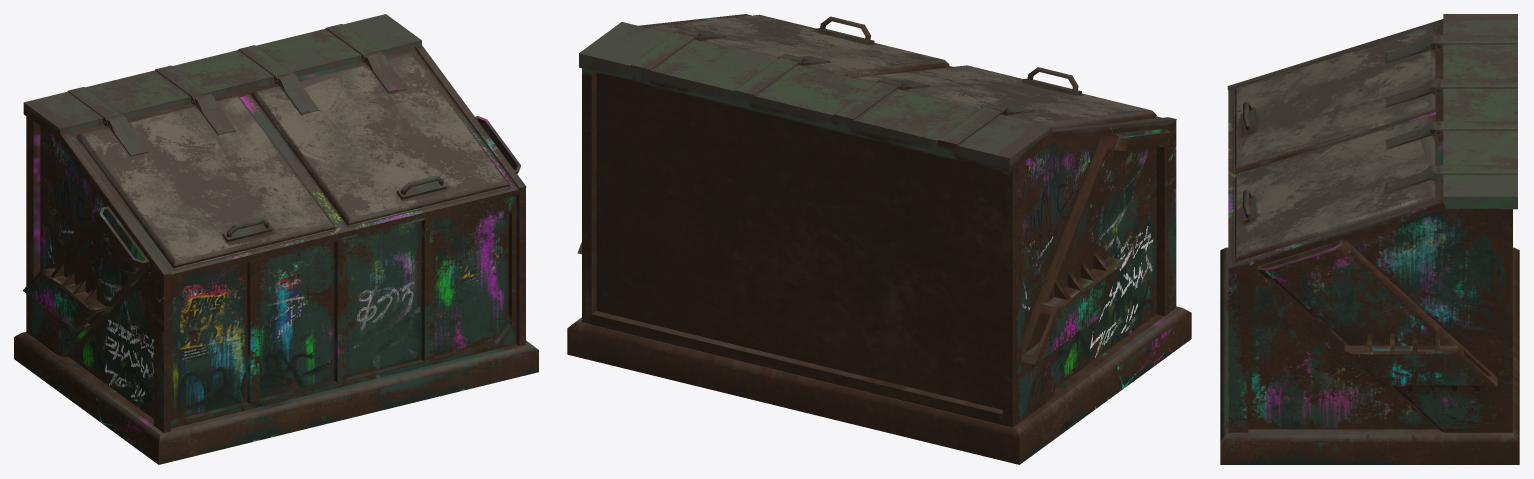
Rendered from garbage.glb.
3 views of the same model, side by side, from view 1: azimuth 30°, elevation 25°; view 2: azimuth 150°, elevation 25°; view 3: azimuth 270°, elevation 25° (orthographic). The views are drawn at different scales.
Parts seen in each view (by area): view 1: can; view 2: can; view 3: can.
Boxes of the visible parts, x1,y1,x2,y2 form: can: (14, 14, 538, 464); can: (567, 14, 1191, 464); can: (1220, 14, 1519, 464).
Size of the model in its own units: 4.19 by 2.64 by 2.7.
1 material, 1 textured.
